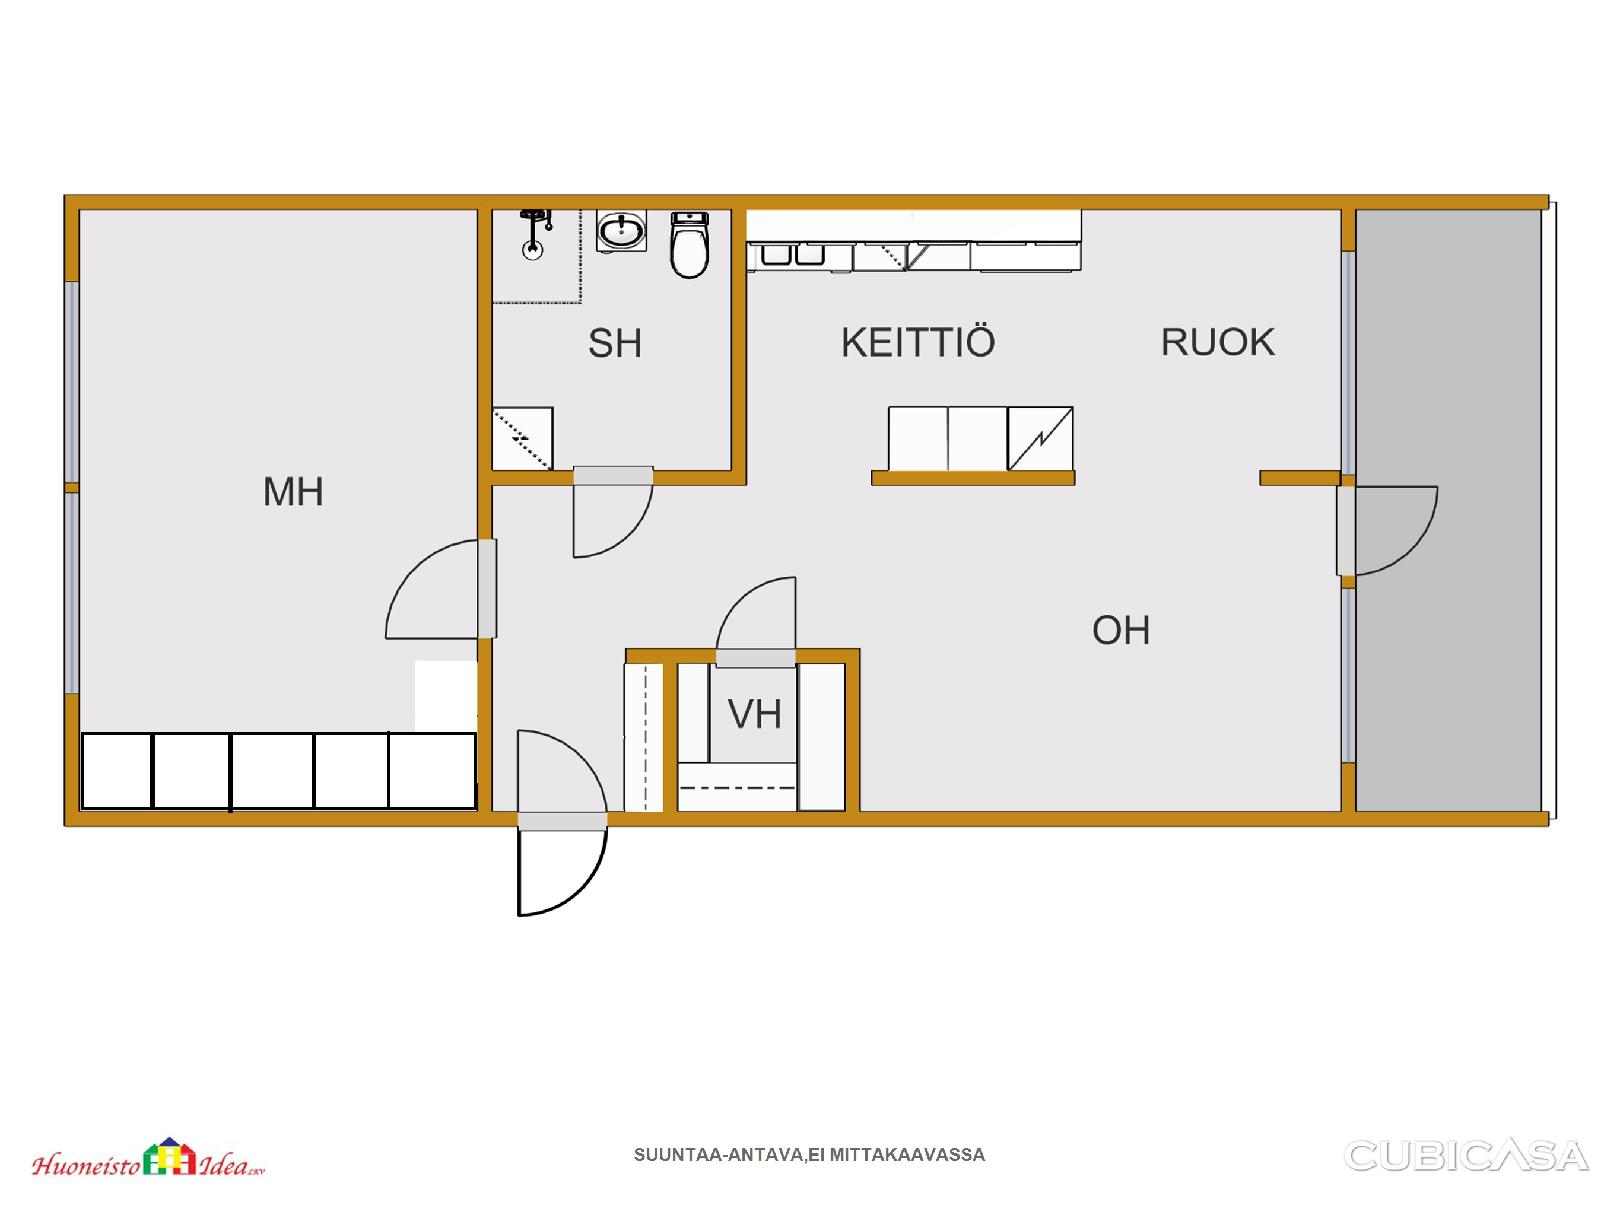door: (512, 725, 608, 916), (385, 535, 500, 643), (1332, 479, 1444, 573), (564, 465, 654, 565), (718, 565, 804, 670)
window: (1338, 241, 1361, 470), (60, 494, 85, 689), (59, 278, 82, 477), (1338, 590, 1359, 758)
zone: (490, 204, 1336, 804), (82, 207, 469, 803), (1355, 205, 1543, 809), (489, 202, 730, 468), (679, 659, 837, 832)
